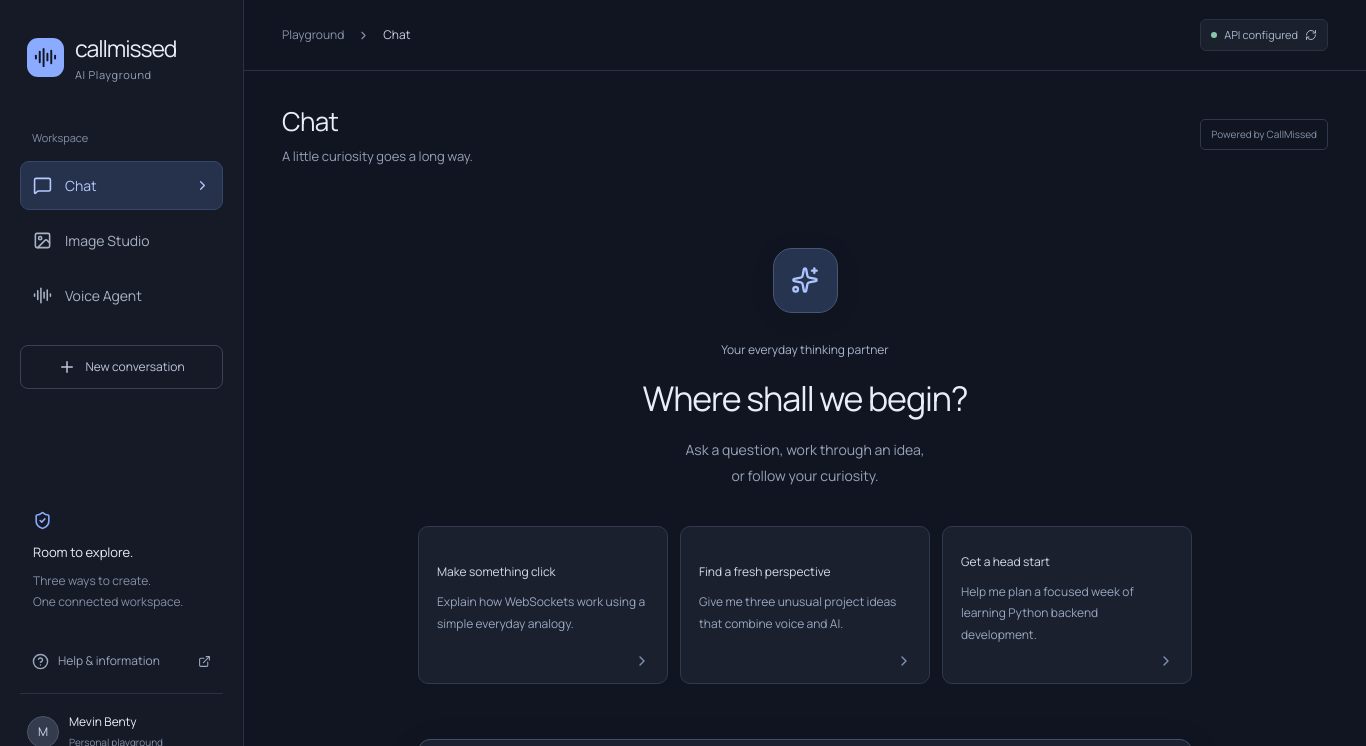
playground workflows › navigates to all three working interfaces and prompt suggestions fill the composer
The image size is (1366, 746).
Expected: the heading "Where shall we begin?" is shown, x1=642 y1=374 x2=968 y2=420
Click the text "Make something click" at (496, 572), box x1=437 y1=564 x2=556 y2=580
(page scrolled)
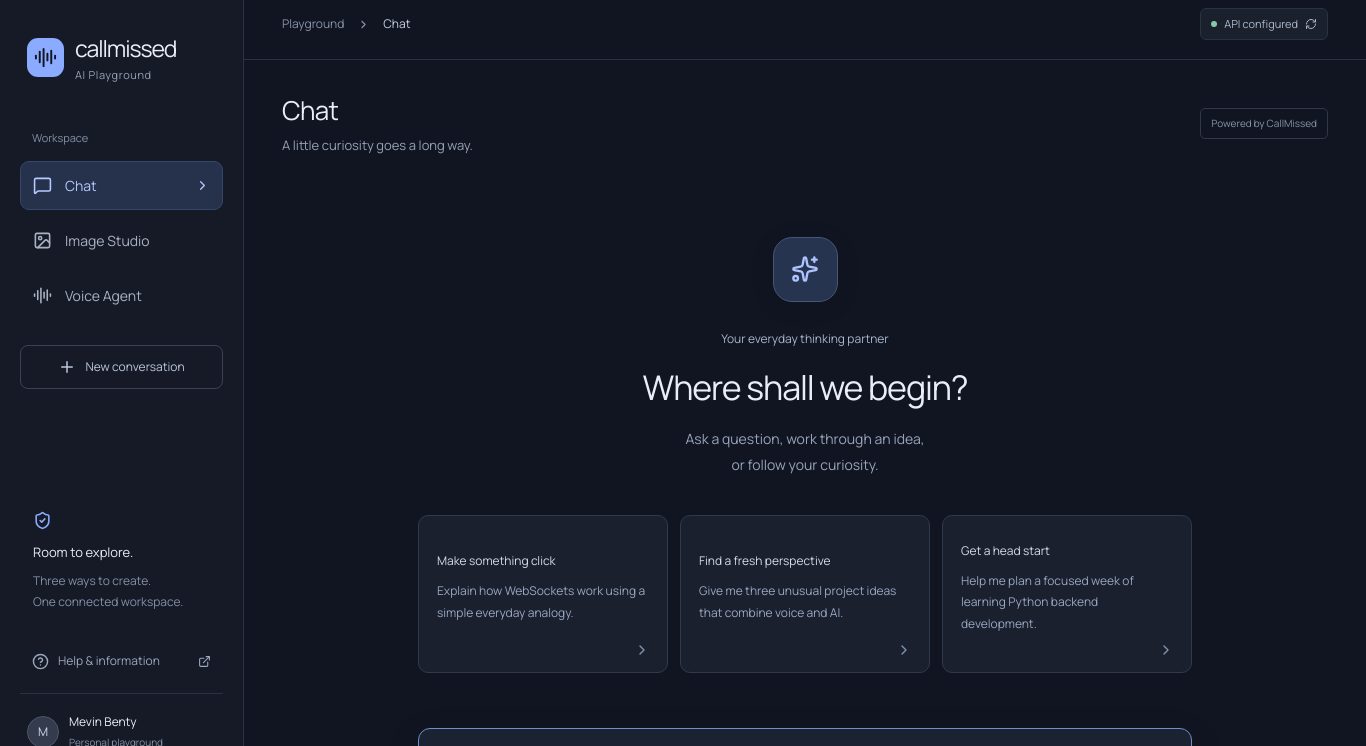
Click the button "Image Studio" at (122, 240), box x1=20 y1=216 x2=223 y2=264
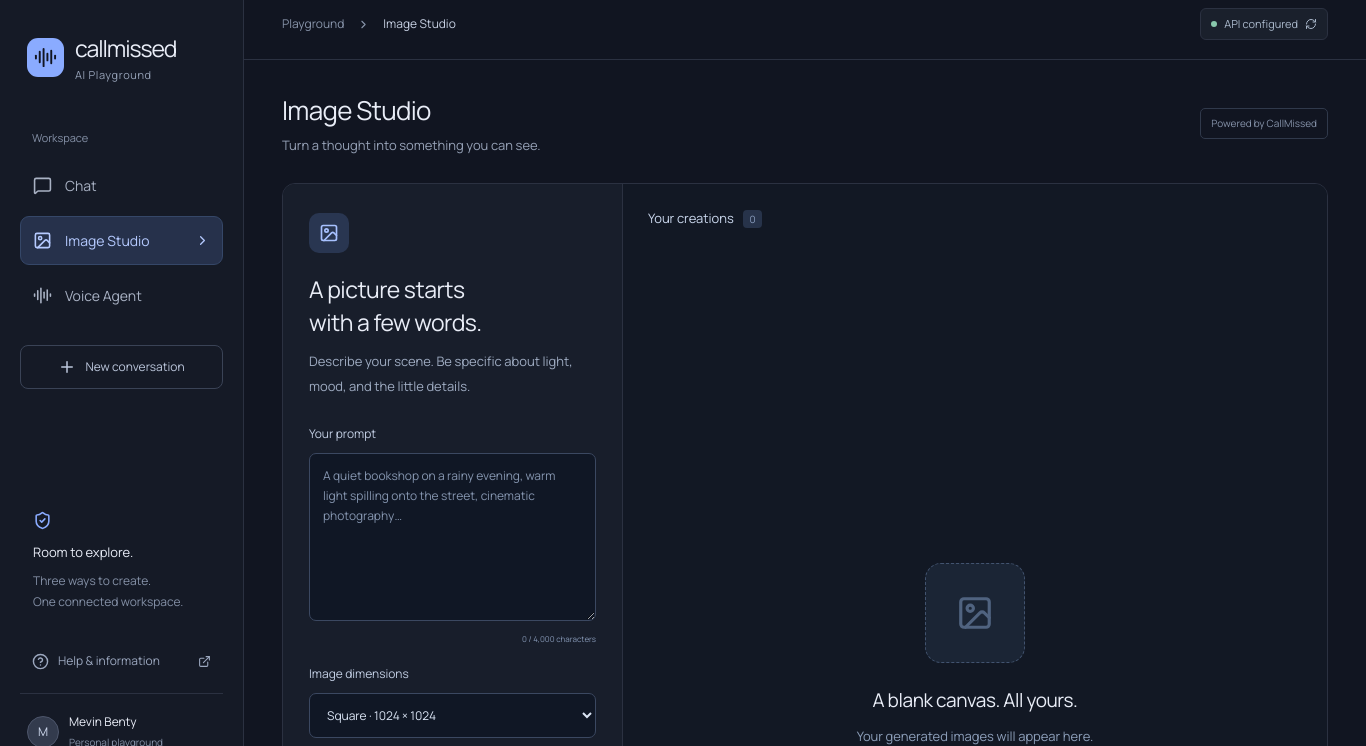
Result: the text box labelled "Your prompt" is shown at x1=309 y1=453 x2=596 y2=621
Click the button "Voice Agent" at (122, 295), box x1=20 y1=270 x2=223 y2=320
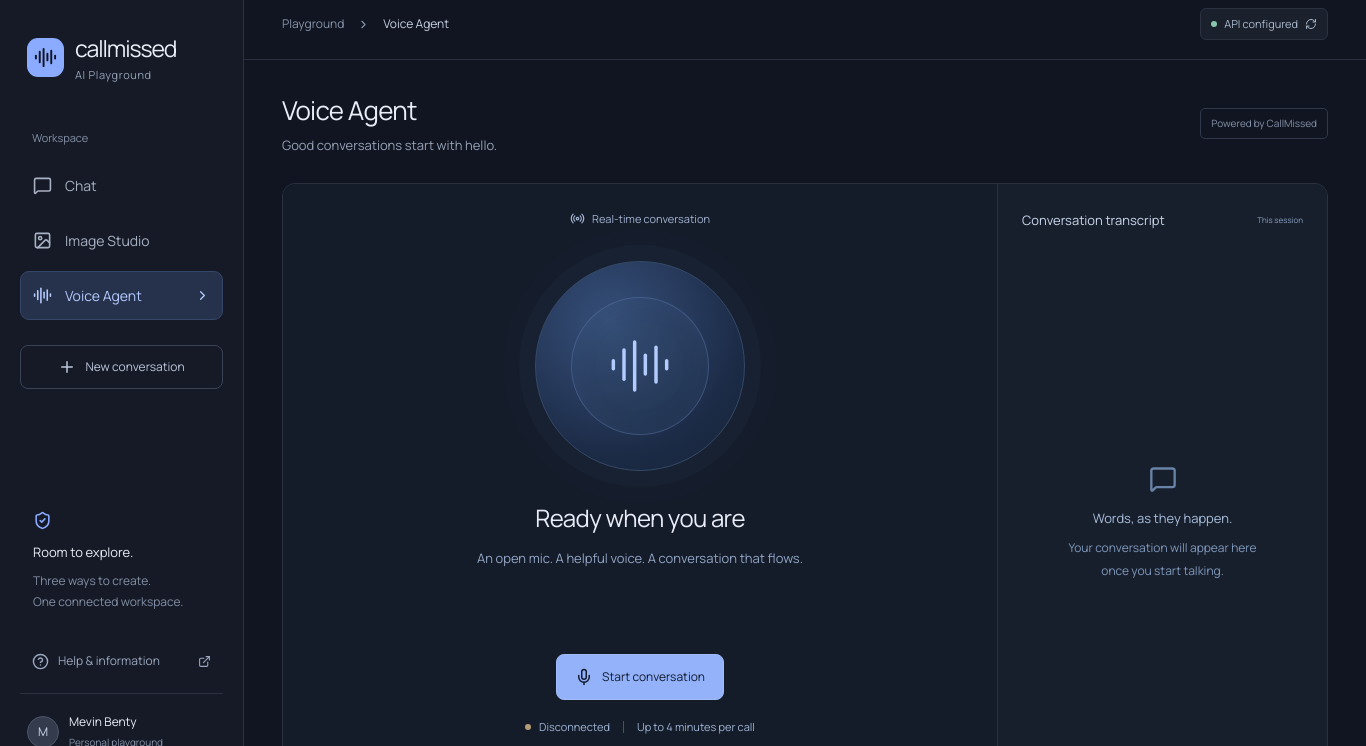
Result: the button "Start conversation" is shown at x1=556 y1=654 x2=724 y2=700
Result: the text "Disconnected" is shown at x1=539 y1=719 x2=610 y2=735
